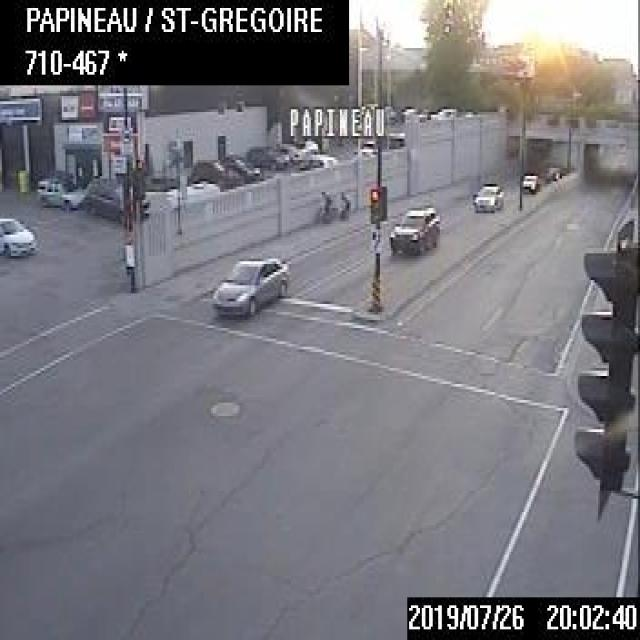vehicle: (211, 251, 289, 320), (386, 206, 436, 253), (188, 155, 241, 190), (36, 173, 84, 211), (85, 177, 125, 222), (0, 213, 38, 259), (469, 179, 506, 213), (222, 151, 260, 182), (316, 187, 349, 221), (248, 144, 288, 168), (520, 170, 540, 194)
